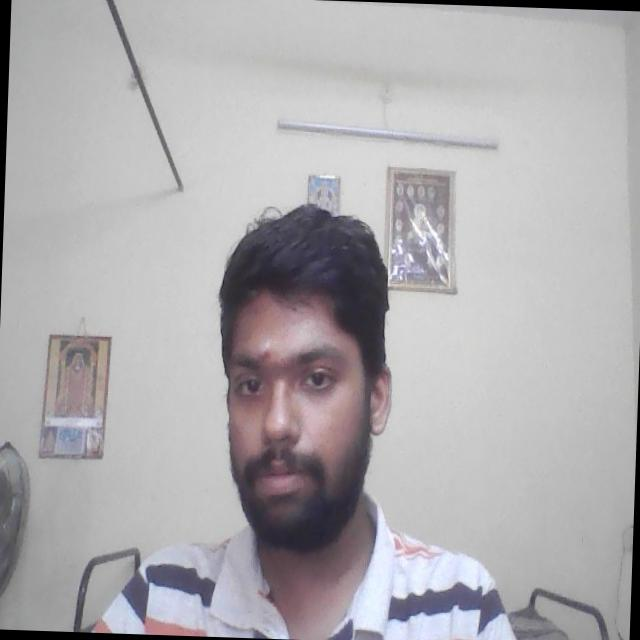Focused: (217, 315, 376, 525)
